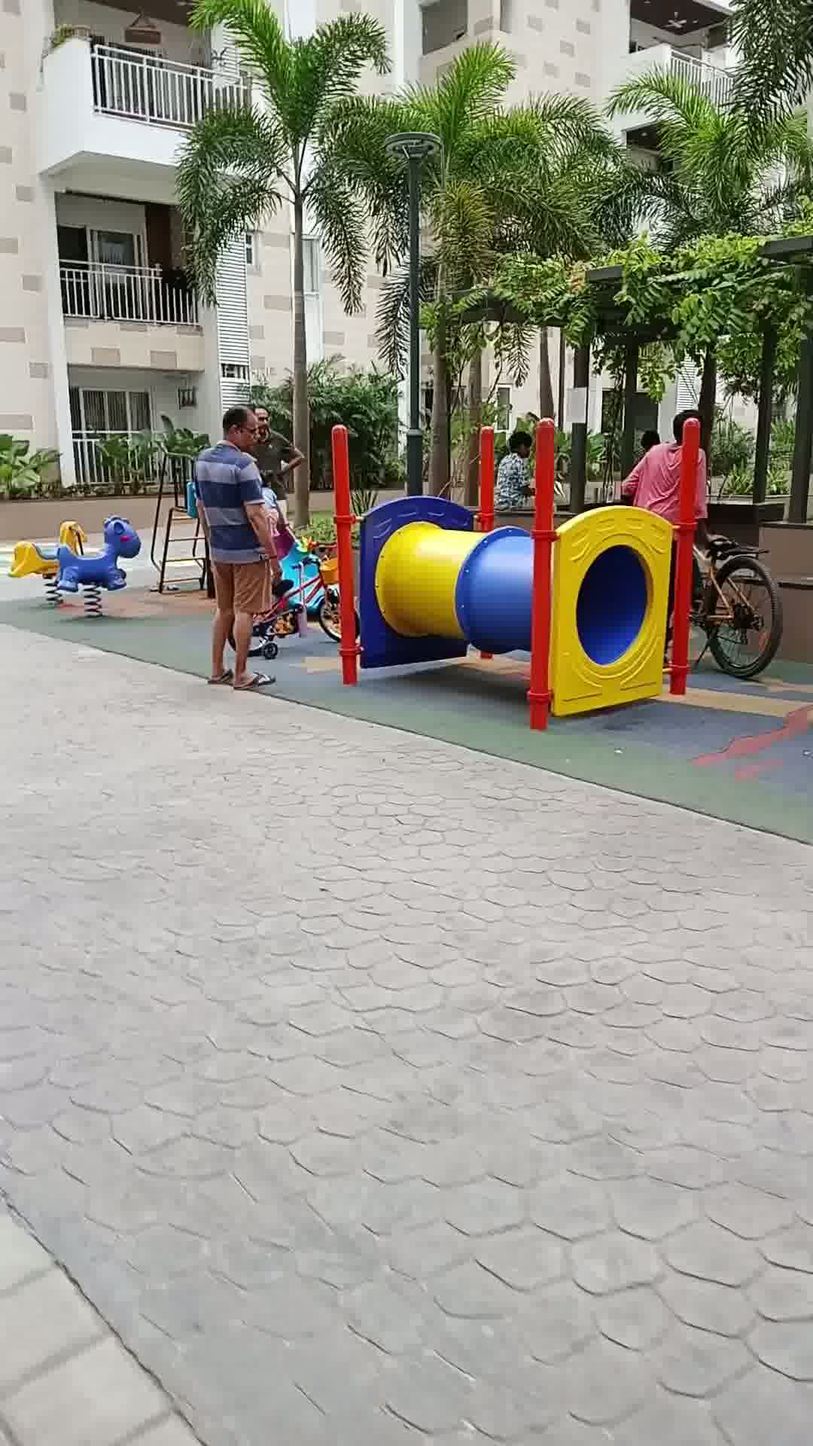bicycle: (612, 535, 791, 655)
person: (171, 393, 287, 706), (632, 410, 714, 584), (239, 376, 310, 512), (492, 410, 532, 524)
tree: (191, 0, 373, 529), (617, 57, 799, 521), (327, 63, 512, 501), (469, 57, 615, 512)
